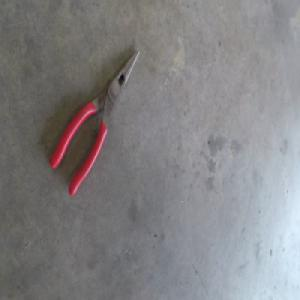Pliers: (50, 51, 140, 196)
